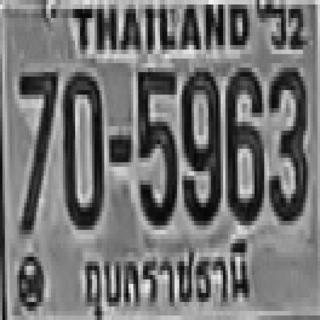N00: (61, 68, 102, 225)
N03: (267, 63, 305, 221)
N05: (136, 65, 175, 223)
N06: (224, 63, 263, 221)
N07: (17, 68, 56, 230)
N09: (181, 63, 219, 221)
P72: (82, 230, 266, 320)
